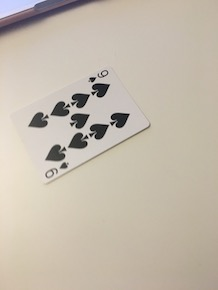NineOfSpades: (11, 64, 152, 185)
